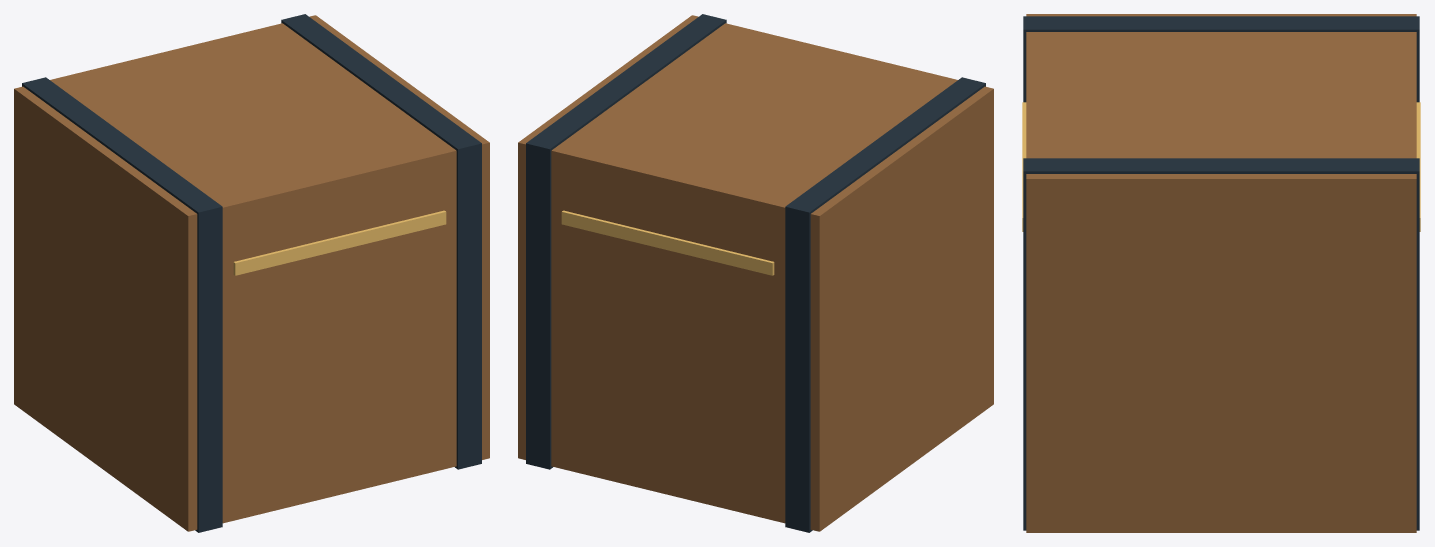
File: terrain-crate.glb
The picture shows the model from 3 angles, left to right: view 1: azimuth 30°, elevation 25°; view 2: azimuth 150°, elevation 25°; view 3: azimuth 270°, elevation 25°; orthographic projection. The views are drawn at different scales.
Visible parts, largest first — view 1: terrain-crate; view 2: terrain-crate; view 3: terrain-crate.
Part boxes in pixels (left/top/right/bottom): terrain-crate: left=14, top=14, right=489, bottom=532; terrain-crate: left=518, top=14, right=993, bottom=532; terrain-crate: left=1022, top=14, right=1420, bottom=532.
Bounding box in the file's own units: 1 × 1.01 × 1.02.
